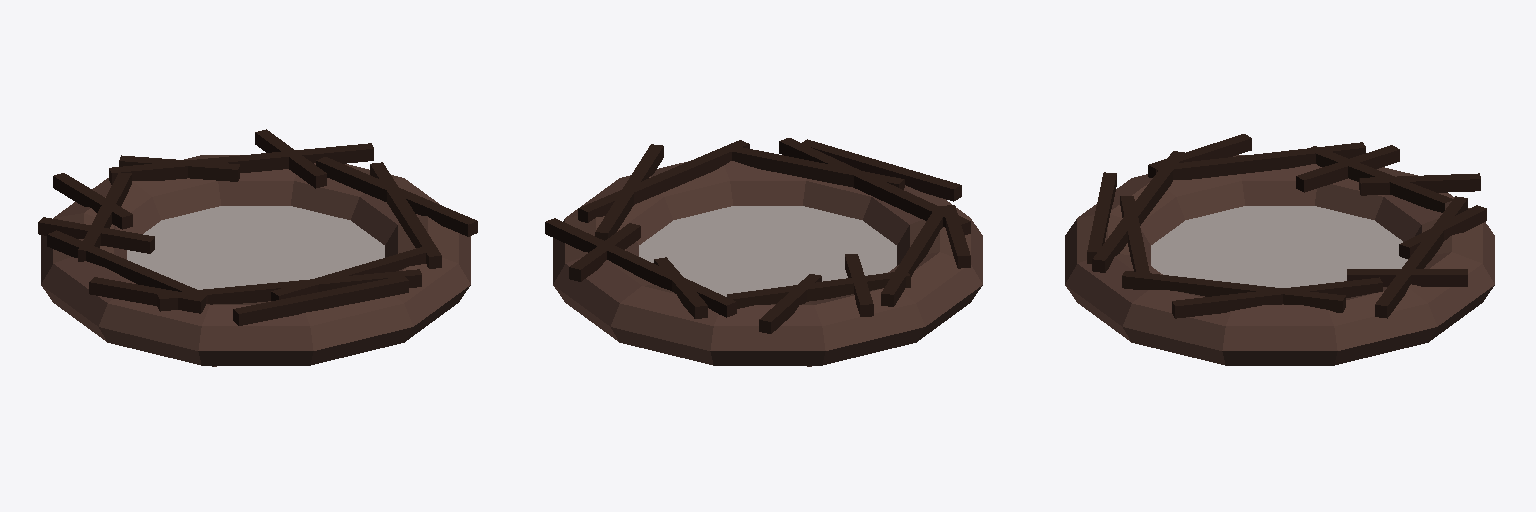
3 renders of one model, left to right at view 1: azimuth 30°, elevation 25°; view 2: azimuth 150°, elevation 25°; view 3: azimuth 270°, elevation 25°, orthographic.
Parts seen in each view (by area): view 1: cube, torus; view 2: cube, torus; view 3: cube, torus.
Part boxes in pixels (bbox=[...]): cube: bbox=[38, 129, 477, 366]; torus: bbox=[41, 155, 470, 365]; cube: bbox=[545, 138, 970, 366]; torus: bbox=[553, 161, 982, 365]; cube: bbox=[1087, 134, 1486, 318]; torus: bbox=[1065, 155, 1494, 365].
Size of the model in its own units: 0.5 by 0.0825 by 0.5.
Materials: 1 (1 with a texture image).